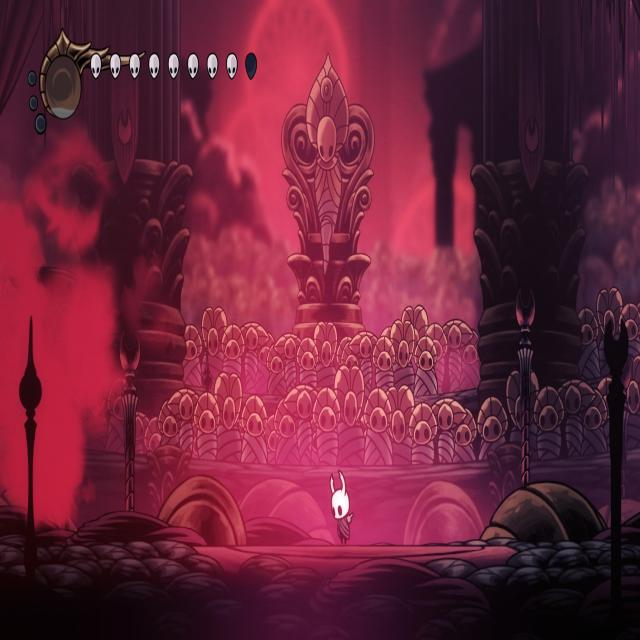Player: (330, 466, 357, 546)
